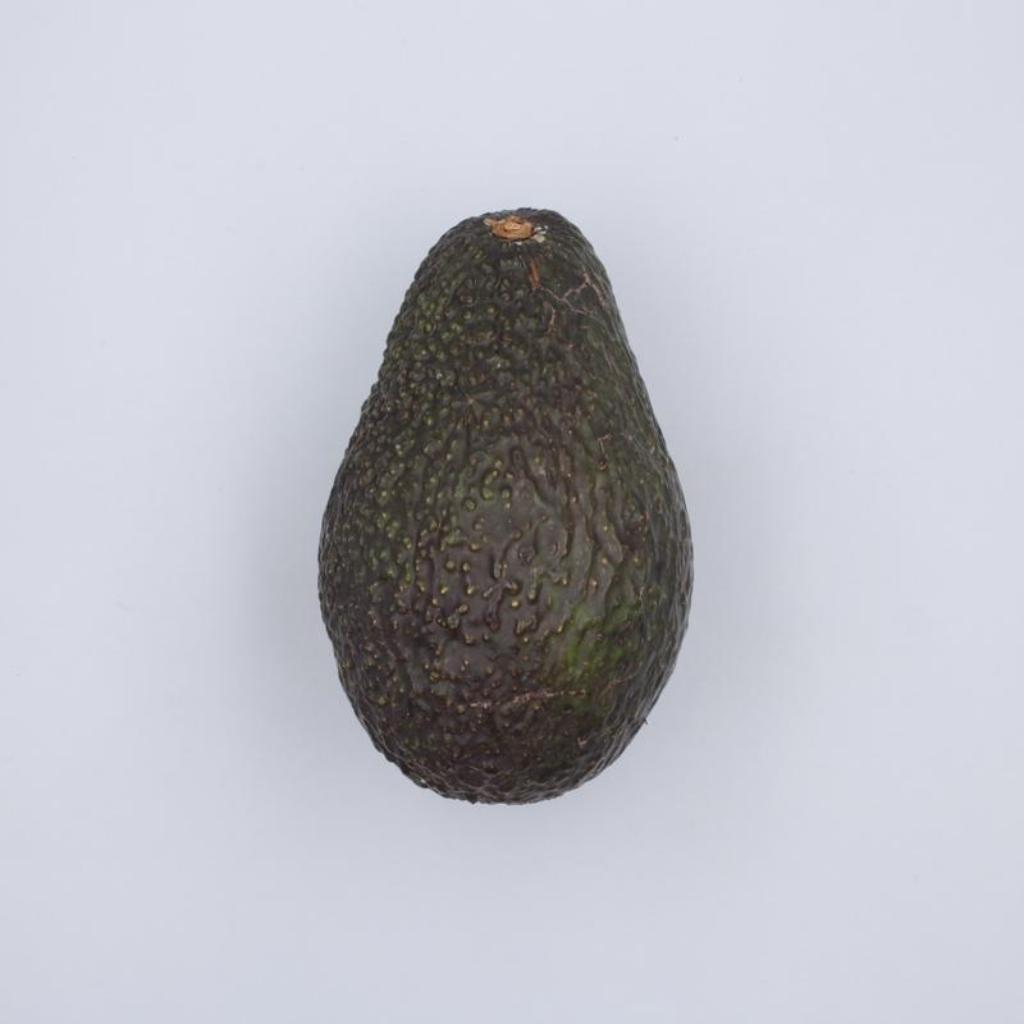healthy: (319, 209, 691, 803)
